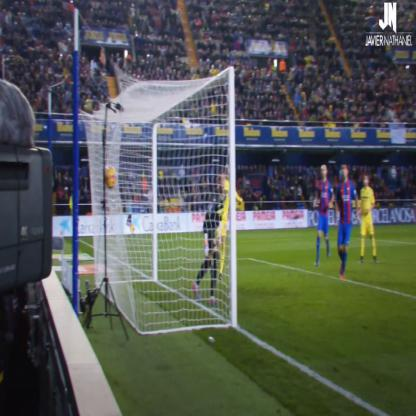goal: (85, 63, 241, 314)
